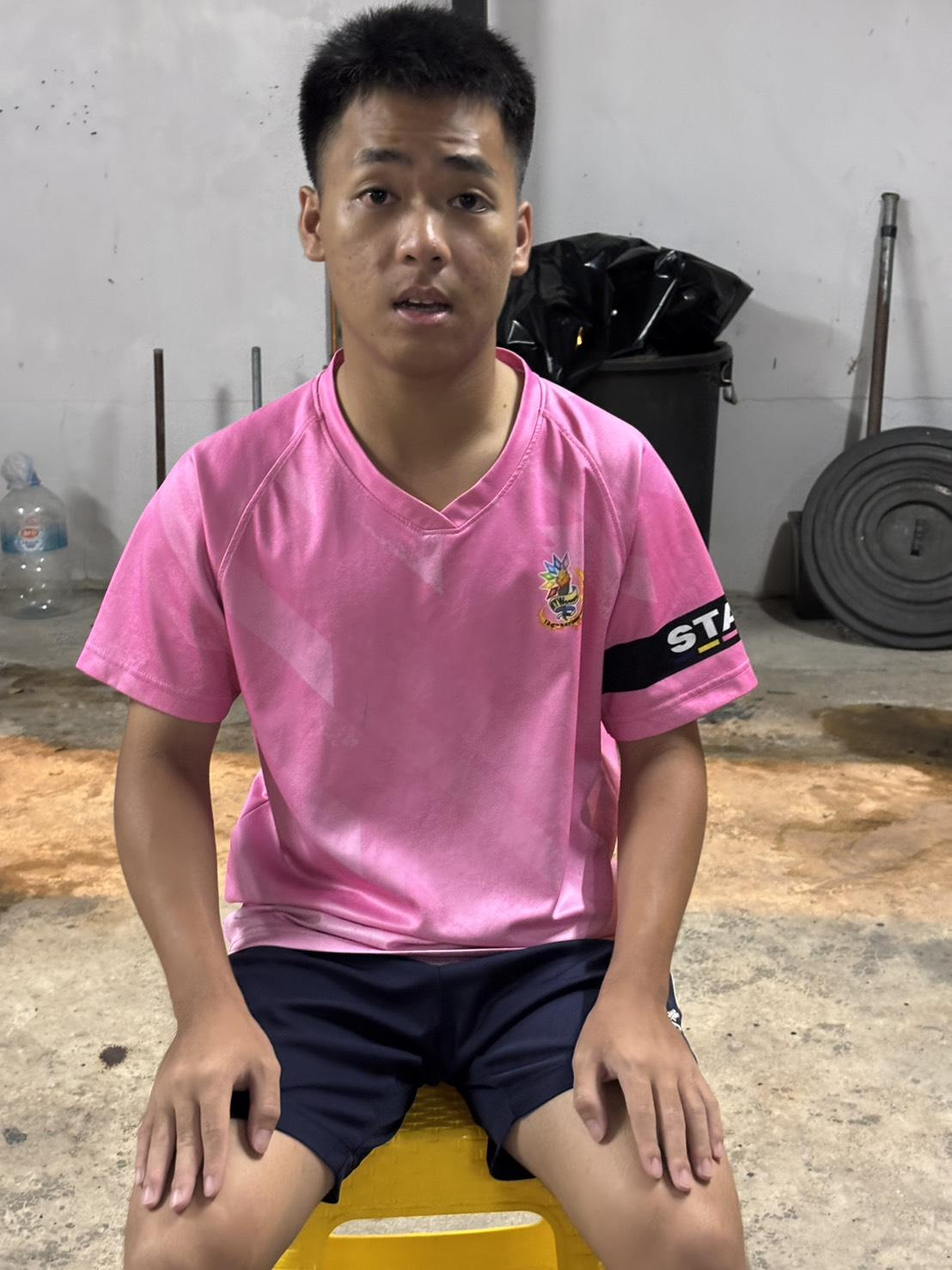GoodPosture: (79, 5, 754, 1269), (80, 6, 755, 960)
